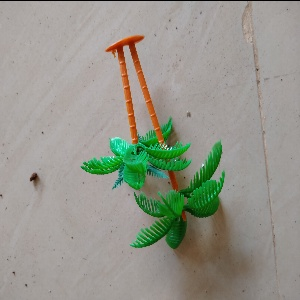plant: (94, 43, 233, 229)
